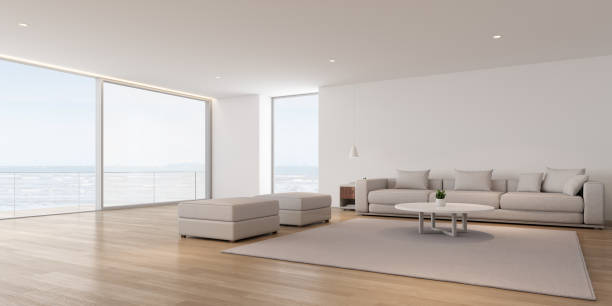chair: (175, 197, 280, 243), (256, 190, 333, 228)
small plant: (434, 188, 447, 207)
sofa: (353, 166, 607, 230)
table: (393, 199, 495, 238)
